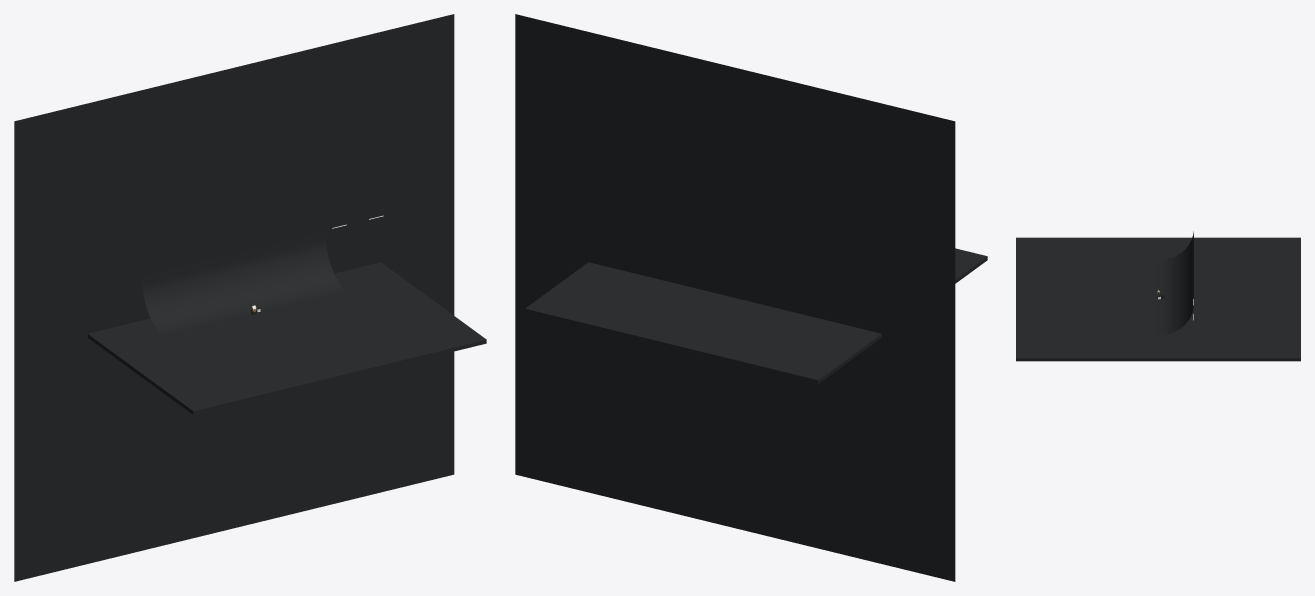
The model's file is coffee-bag-uvd.glb.
The picture shows the model from 3 angles, left to right: view 1: azimuth 30°, elevation 25°; view 2: azimuth 150°, elevation 25°; view 3: azimuth 270°, elevation 25°; orthographic projection. The views are drawn at different scales.
Visible parts, largest first — view 1: GalleryWall, Cyclorama, GalleryShelf; view 2: GalleryWall, GalleryShelf; view 3: GalleryShelf, Cyclorama.
Part boxes in pixels (<box>): GalleryWall: <box>14,14,454,581</box>; Cyclorama: <box>142,84,404,382</box>; GalleryShelf: <box>87,262,486,414</box>; GalleryWall: <box>515,14,955,581</box>; GalleryShelf: <box>525,248,987,383</box>; GalleryShelf: <box>1016,237,1300,361</box>; Cyclorama: <box>1051,231,1193,335</box>.
Bounding box in the file's own units: 12 × 12 × 8.
6 materials, 1 textured.
